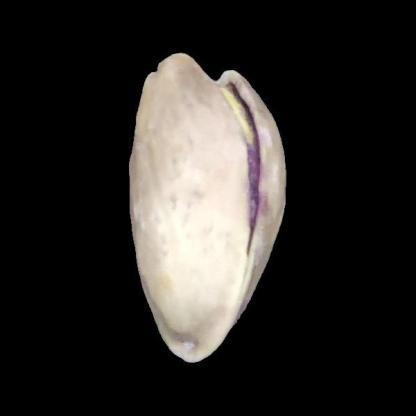pistachio: (130, 55, 289, 371)
